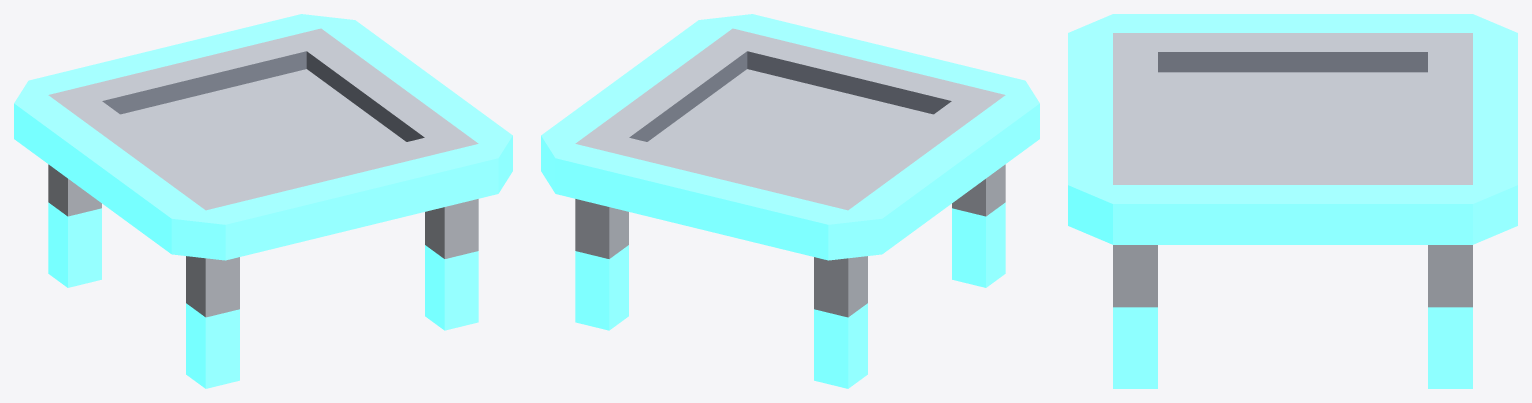
The model's file is platform_low.glb.
3 renders of one model, left to right at view 1: azimuth 30°, elevation 25°; view 2: azimuth 150°, elevation 25°; view 3: azimuth 270°, elevation 25°, orthographic. The views are drawn at different scales.
Visible parts, largest first — view 1: platform_low; view 2: platform_low; view 3: platform_low.
Boxes of the visible parts, bbox=[...] form: platform_low: bbox=[14, 14, 512, 388]; platform_low: bbox=[541, 14, 1039, 388]; platform_low: bbox=[1068, 14, 1517, 388].
Size of the model in its own units: 1 by 0.5 by 1.
